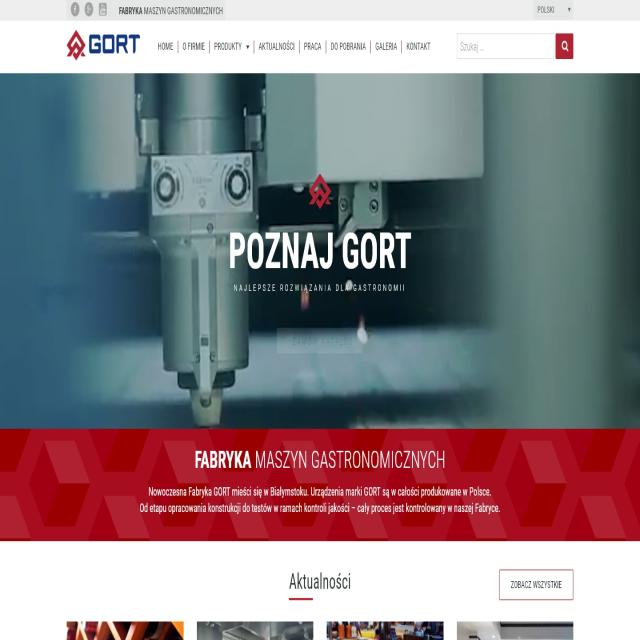button: (499, 569, 574, 602), (324, 38, 370, 58), (210, 38, 255, 56), (254, 38, 299, 56), (535, 0, 571, 19), (400, 40, 434, 57), (153, 34, 177, 56), (556, 32, 574, 60), (300, 36, 325, 56), (180, 40, 208, 57), (372, 41, 401, 56), (68, 0, 81, 18), (83, 1, 95, 20), (98, 4, 107, 17)
field: (456, 35, 554, 61)
heading: (222, 224, 414, 272), (194, 446, 450, 474), (286, 560, 354, 600)
image: (0, 70, 639, 429), (64, 23, 141, 68), (304, 168, 333, 212)
label: (457, 36, 482, 57)
text: (132, 480, 503, 526), (231, 279, 409, 298), (118, 3, 226, 17)
